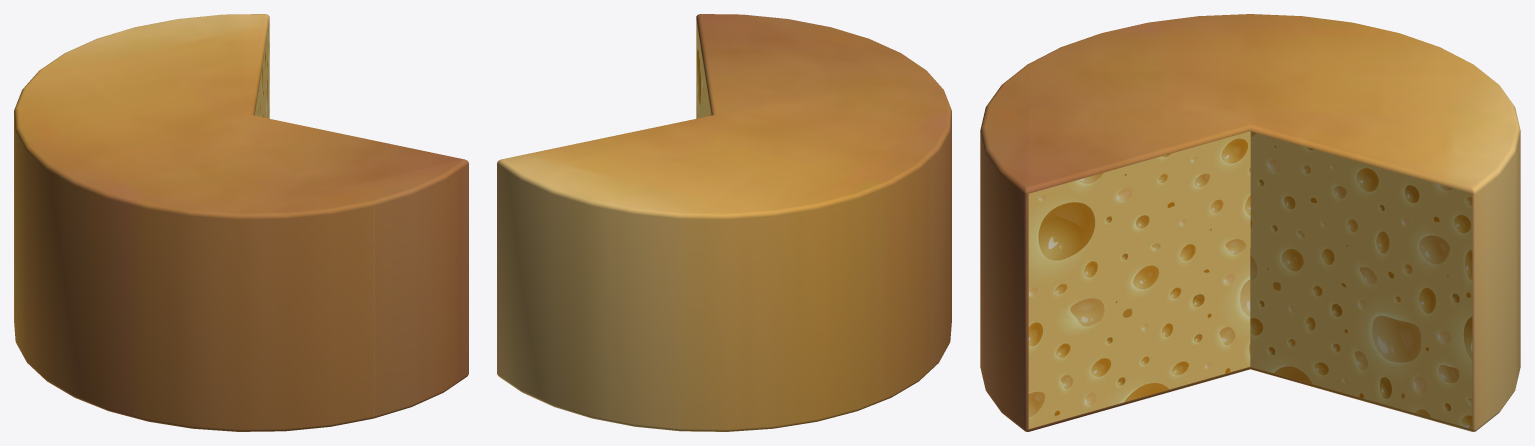
The model's file is Fromeuge.fbx.
The picture shows the model from 3 angles, left to right: view 1: azimuth 30°, elevation 25°; view 2: azimuth 150°, elevation 25°; view 3: azimuth 270°, elevation 25°; orthographic projection. The views are drawn at different scales.
Parts seen in each view (by area): view 1: Cylinder; view 2: Cylinder; view 3: Cylinder.
Part boxes in pixels (left/top/right/bottom): Cylinder: left=14, top=14, right=468, bottom=431; Cylinder: left=497, top=14, right=951, bottom=431; Cylinder: left=980, top=14, right=1520, bottom=431.
Size of the model in its own units: 155 by 100 by 200.
